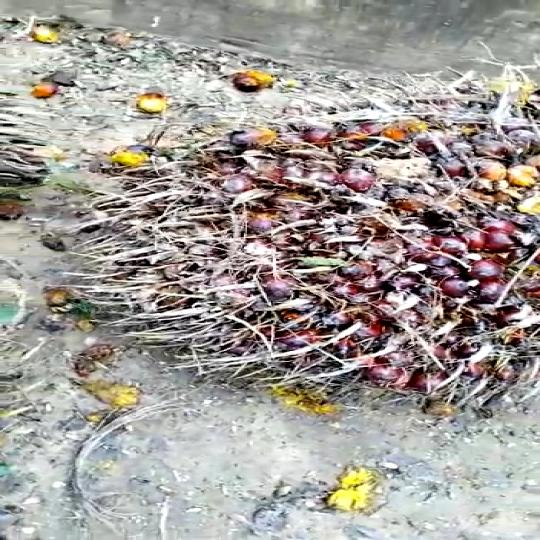masak: (87, 108, 540, 419)
